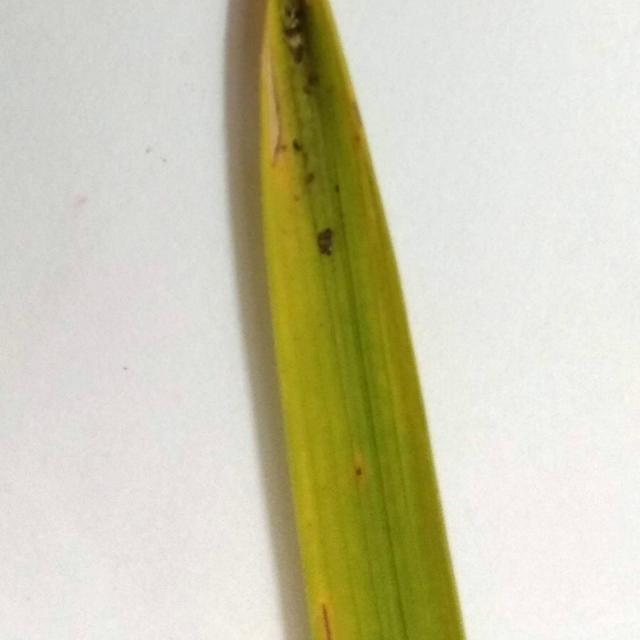Brown spot: (264, 63, 288, 169), (285, 0, 322, 68), (302, 218, 348, 264), (331, 450, 380, 492), (315, 600, 340, 640), (295, 72, 327, 95), (300, 171, 324, 191), (291, 135, 308, 153), (331, 174, 338, 192), (355, 132, 362, 147)
